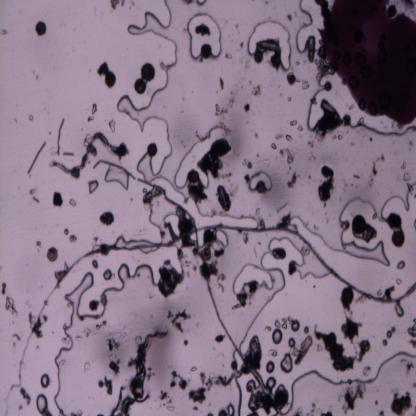Air bubble: (118, 46, 180, 193), (59, 258, 151, 352), (284, 351, 416, 414), (236, 236, 304, 346), (292, 203, 392, 269), (306, 79, 416, 132), (174, 126, 225, 188), (124, 1, 179, 48), (247, 18, 292, 70), (186, 9, 222, 61), (378, 177, 416, 222), (141, 195, 177, 242), (294, 0, 324, 54), (54, 346, 74, 416), (232, 263, 273, 295), (105, 164, 129, 190), (114, 235, 153, 249), (248, 172, 272, 192), (280, 351, 295, 375), (270, 326, 284, 346), (274, 316, 292, 329), (216, 229, 228, 248), (36, 394, 48, 413), (40, 372, 50, 390), (88, 179, 99, 195), (140, 245, 159, 254), (386, 325, 396, 340), (395, 303, 405, 318), (265, 359, 275, 374), (292, 318, 301, 334), (102, 269, 113, 282), (396, 259, 406, 271), (226, 403, 236, 415), (90, 258, 99, 269), (288, 336, 296, 348), (196, 0, 207, 6)
Anthropogenic: (7, 217, 416, 405)
Background material: (111, 329, 169, 415), (137, 178, 197, 230), (312, 323, 356, 374), (316, 95, 352, 141), (166, 206, 200, 252), (198, 139, 232, 181), (248, 387, 288, 415), (239, 332, 263, 376), (158, 261, 184, 298), (195, 247, 223, 280), (339, 381, 365, 415), (232, 281, 258, 310), (317, 164, 336, 203), (390, 388, 414, 415), (342, 314, 362, 346), (166, 308, 191, 332), (338, 284, 357, 314), (294, 335, 313, 364), (294, 402, 334, 415), (354, 224, 378, 244), (355, 337, 372, 365), (216, 184, 232, 212), (214, 96, 235, 116), (28, 314, 44, 340), (169, 370, 189, 389), (212, 372, 235, 387), (188, 386, 207, 404), (305, 35, 316, 66), (202, 228, 218, 249), (5, 297, 20, 319), (276, 210, 294, 228), (97, 376, 114, 395), (159, 390, 174, 411), (400, 160, 413, 184), (107, 334, 122, 354), (407, 316, 416, 349), (285, 170, 299, 191), (277, 146, 295, 162), (18, 386, 32, 406), (254, 206, 266, 229), (108, 358, 123, 376), (142, 188, 161, 202), (50, 189, 64, 208), (87, 102, 99, 124), (382, 282, 396, 300), (272, 245, 288, 260), (98, 212, 114, 227), (400, 358, 413, 376), (286, 72, 302, 86), (200, 373, 212, 391), (238, 156, 253, 170), (88, 298, 100, 314), (109, 0, 125, 12), (217, 271, 226, 291), (369, 158, 378, 178), (288, 259, 297, 278), (30, 187, 40, 204), (250, 84, 263, 97), (213, 332, 228, 343), (95, 320, 108, 332), (266, 376, 276, 390), (108, 118, 117, 132), (12, 331, 21, 343), (69, 232, 78, 244), (301, 79, 310, 90), (1, 282, 8, 296), (69, 196, 77, 208), (284, 134, 294, 143), (0, 28, 9, 38), (243, 172, 250, 184), (243, 101, 250, 113), (378, 152, 386, 162), (182, 338, 190, 348), (274, 132, 284, 140), (71, 410, 83, 416), (232, 360, 238, 372), (290, 119, 298, 128), (353, 172, 360, 182), (84, 360, 91, 370), (224, 51, 232, 59), (190, 365, 198, 373), (270, 142, 277, 151), (63, 229, 71, 236), (297, 124, 304, 132), (220, 77, 224, 91), (307, 140, 313, 148)
Cellulose filter fibre: (50, 132, 131, 176)
Diatom: (193, 231, 243, 362), (94, 159, 136, 180), (25, 140, 47, 176), (54, 118, 66, 156), (351, 214, 367, 235), (33, 18, 47, 37), (141, 63, 155, 81), (391, 230, 405, 246), (134, 79, 147, 95), (104, 72, 116, 88), (201, 43, 212, 60), (146, 142, 158, 157), (53, 268, 65, 282), (188, 170, 200, 184), (47, 247, 58, 262), (254, 51, 264, 63), (256, 180, 265, 193), (324, 81, 334, 92), (62, 150, 75, 158)
Pen: (323, 0, 416, 124)
